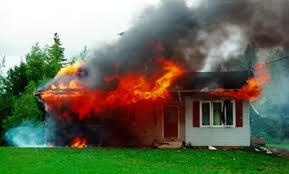fire: (40, 52, 182, 122), (211, 64, 270, 98), (67, 132, 88, 147)
